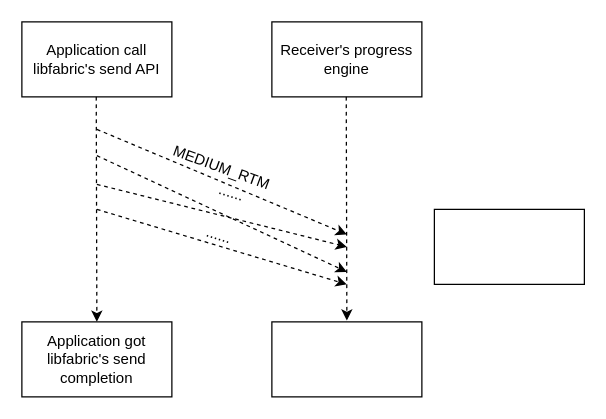
The diagram is 606 pixels wide and 419 high, and some of its shapes have lost their labels. Here are the shapes that lost their labels. From the top down, the box of each, then its label:
(433, 208, 584, 284): Application call libfabric's receive API
(271, 321, 422, 397): Application got libfabric's receive completion
